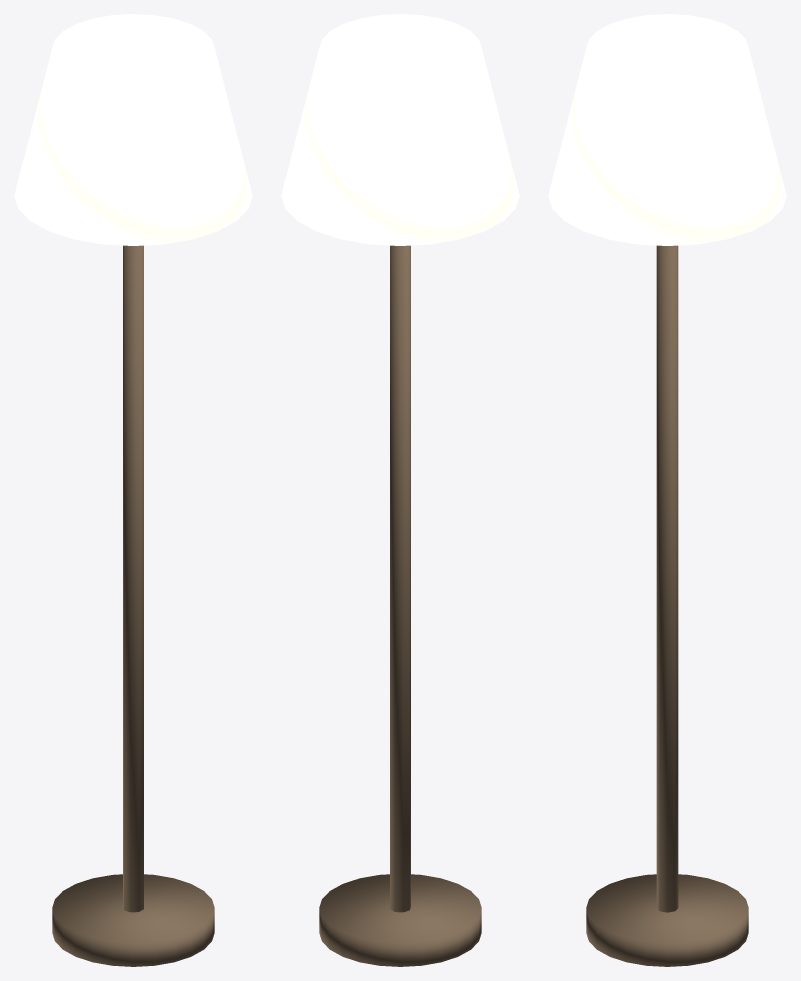
Rendered from floorlamp.glb.
The picture shows the model from 3 angles, left to right: view 1: azimuth 30°, elevation 25°; view 2: azimuth 150°, elevation 25°; view 3: azimuth 270°, elevation 25°; orthographic projection.
Visible parts, largest first — view 1: LampShade, LampStem, LampBase; view 2: LampShade, LampStem, LampBase; view 3: LampShade, LampStem, LampBase.
Boxes of the visible parts, bbox=[...] form: LampShade: bbox=[14, 14, 252, 245]; LampStem: bbox=[123, 245, 143, 912]; LampBase: bbox=[52, 874, 214, 966]; LampShade: bbox=[281, 14, 519, 245]; LampStem: bbox=[390, 245, 410, 912]; LampBase: bbox=[319, 874, 481, 966]; LampShade: bbox=[548, 14, 786, 245]; LampStem: bbox=[656, 245, 678, 912]; LampBase: bbox=[586, 874, 748, 966].
Size of the model in its own units: 0.44 by 1.8 by 0.44.
